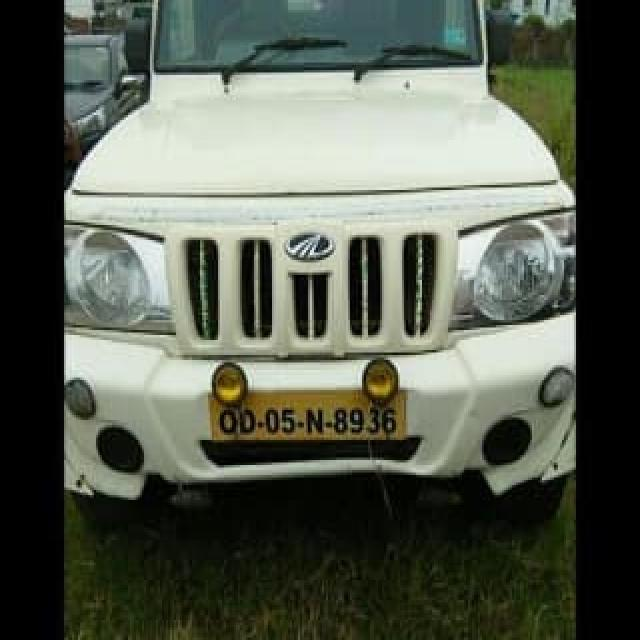light_vehicle: (70, 1, 590, 524)
